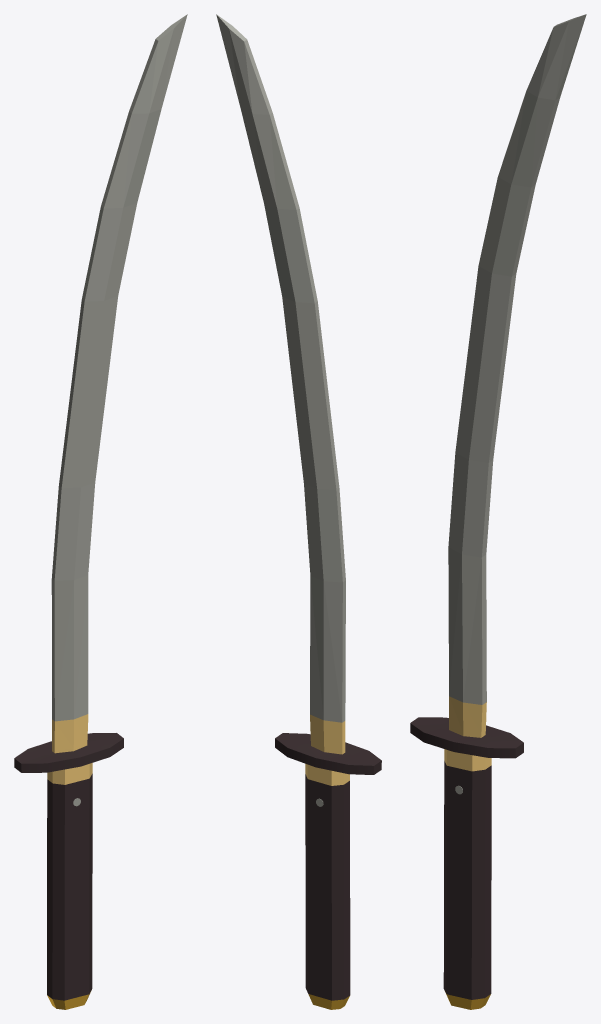
Rendered from Chosen.Sword.hwando.untitled.fbx.
3 views of the same model, side by side, from view 1: azimuth 30°, elevation 25°; view 2: azimuth 150°, elevation 25°; view 3: azimuth 330°, elevation 25° (orthographic). The views are drawn at different scales.
Visible parts, largest first — view 1: Plane, Cylinder, Cylinder.001, Plane.001, Cylinder.003; view 2: Plane, Cylinder, Cylinder.001, Plane.001, Cylinder.003; view 3: Plane, Cylinder, Cylinder.001, Plane.001, Cylinder.003, Cylinder.002.
Part boxes in pixels (x1,y1,x2,y2): Plane: (51, 14, 187, 721); Cylinder: (47, 773, 92, 1000); Cylinder.001: (14, 733, 123, 772); Plane.001: (52, 714, 88, 750); Cylinder.003: (47, 763, 92, 784); Plane: (216, 14, 345, 722); Cylinder: (305, 774, 350, 1000); Cylinder.001: (275, 733, 381, 774); Plane.001: (310, 714, 345, 751); Cylinder.003: (305, 763, 349, 785); Plane: (448, 14, 586, 704); Cylinder: (443, 761, 491, 999); Cylinder.001: (410, 717, 523, 758); Plane.001: (449, 696, 486, 735); Cylinder.003: (444, 749, 491, 771); Cylinder.002: (446, 994, 490, 1009).
Bounding box in the file's own units: 126 × 700 × 31.9.
